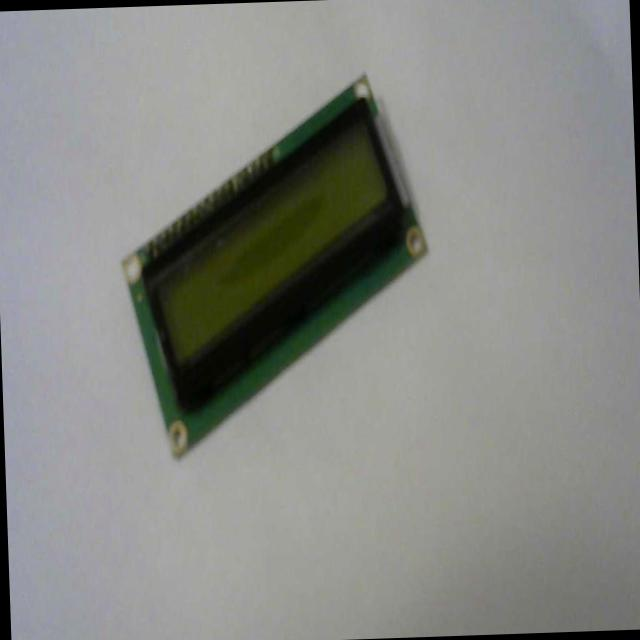lcd: (112, 68, 434, 460)
